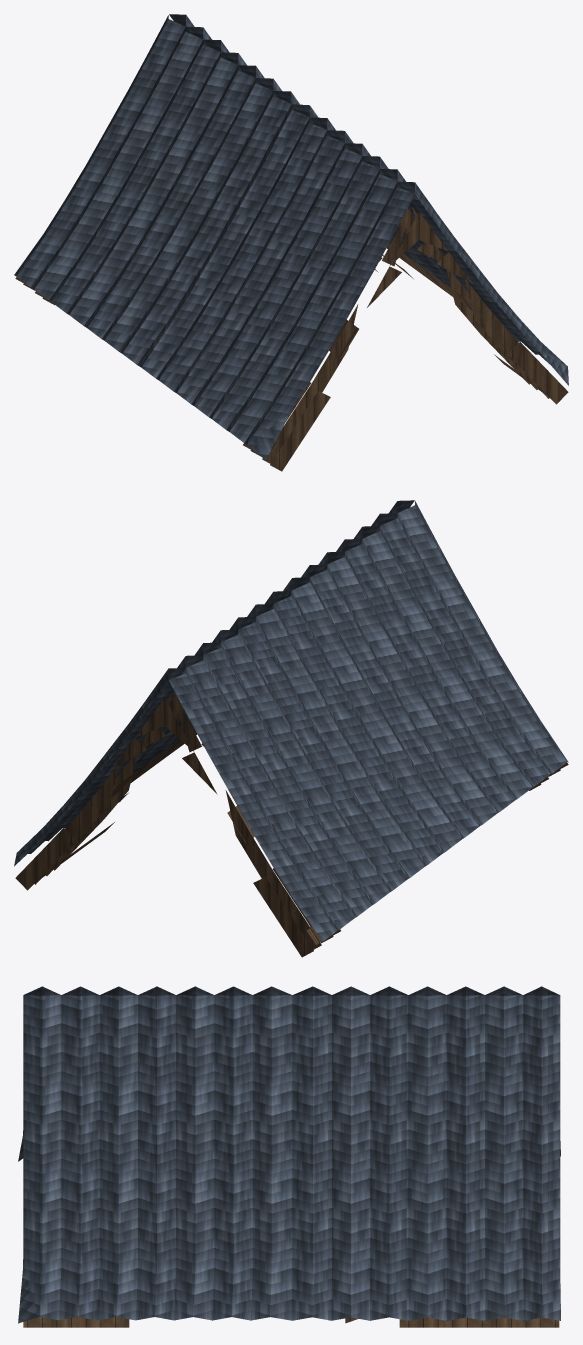
File: Roof_Slate_4x6_LOD1.gltf
3 views of the same model, one above another, from view 1: azimuth 30°, elevation 25°; view 2: azimuth 150°, elevation 25°; view 3: azimuth 270°, elevation 25° (orthographic). The views are drawn at different scales.
Visible parts, largest first — view 1: Roof_Slate_4x6_LOD1; view 2: Roof_Slate_4x6_LOD1; view 3: Roof_Slate_4x6_LOD1.
Boxes of the visible parts, x1,y1,x2,y2 form: Roof_Slate_4x6_LOD1: [14, 14, 568, 471]; Roof_Slate_4x6_LOD1: [14, 500, 568, 957]; Roof_Slate_4x6_LOD1: [18, 986, 560, 1327].
Bounding box in the file's own units: 5.51 × 4.01 × 7.57.
Materials: 2 (2 with a texture image).
